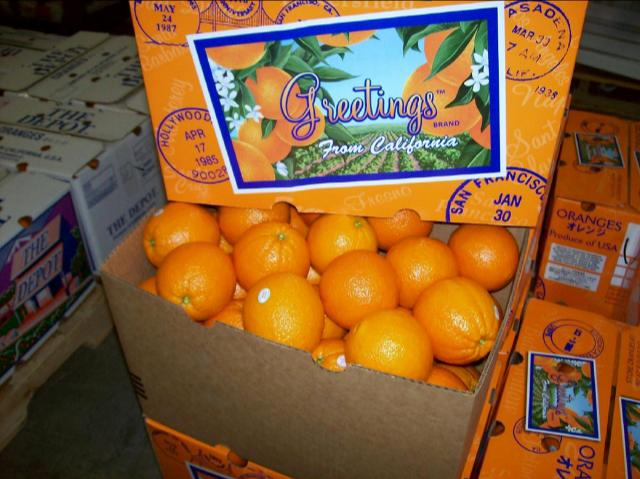Oranges: (416, 276, 500, 363), (156, 240, 234, 318), (242, 274, 322, 350), (348, 306, 430, 380), (320, 250, 398, 326), (234, 221, 310, 287), (142, 203, 218, 265), (454, 222, 520, 292), (389, 236, 456, 304), (310, 214, 376, 272)
